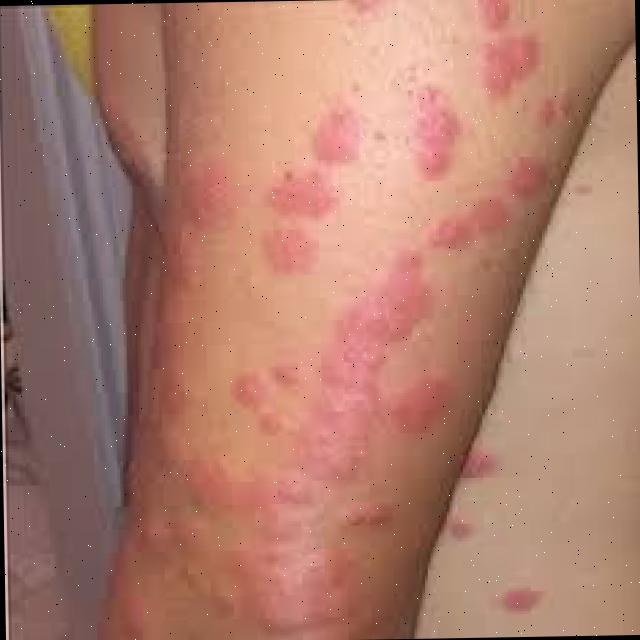kan emici bocekler: (246, 269, 427, 628), (114, 459, 251, 634), (246, 99, 377, 276), (427, 155, 555, 260), (137, 313, 212, 446), (170, 168, 247, 293), (472, 1, 541, 92), (239, 360, 303, 431), (412, 101, 470, 177)
